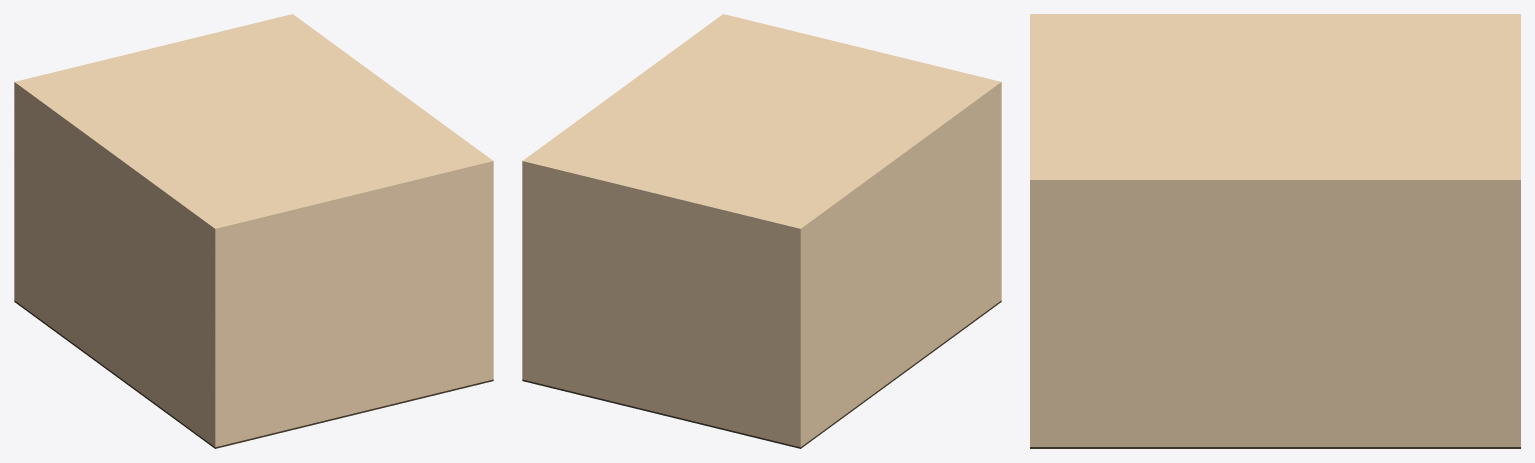
Rendered from workshop_env_color1.fbx.
3 renders of one model, left to right at view 1: azimuth 30°, elevation 25°; view 2: azimuth 150°, elevation 25°; view 3: azimuth 270°, elevation 25°, orthographic. The views are drawn at different scales.
Parts seen in each view (by area): view 1: walls, floor; view 2: walls, floor; view 3: walls, floor.
Boxes of the visible parts, x1=… form: walls: x1=14, y1=14, x2=493, y2=447; floor: x1=14, y1=300, x2=493, y2=448; walls: x1=522, y1=14, x2=1001, y2=447; floor: x1=522, y1=300, x2=1001, y2=448; walls: x1=1030, y1=14, x2=1520, y2=446; floor: x1=1030, y1=447, x2=1520, y2=448.
Bounding box in the file's own units: 1600 × 1209 × 2000.
